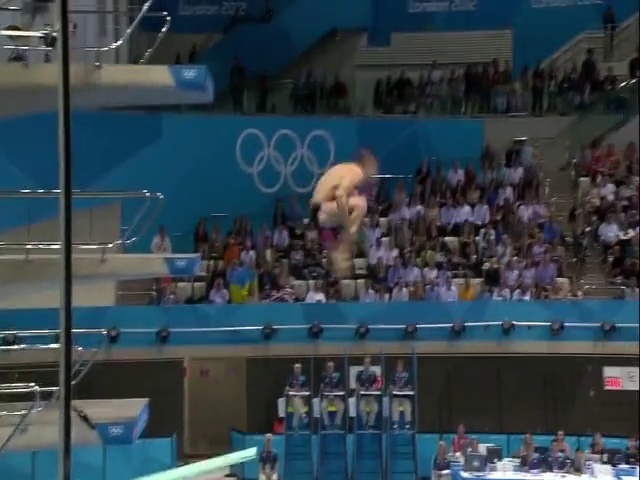diver: (309, 150, 378, 278)
